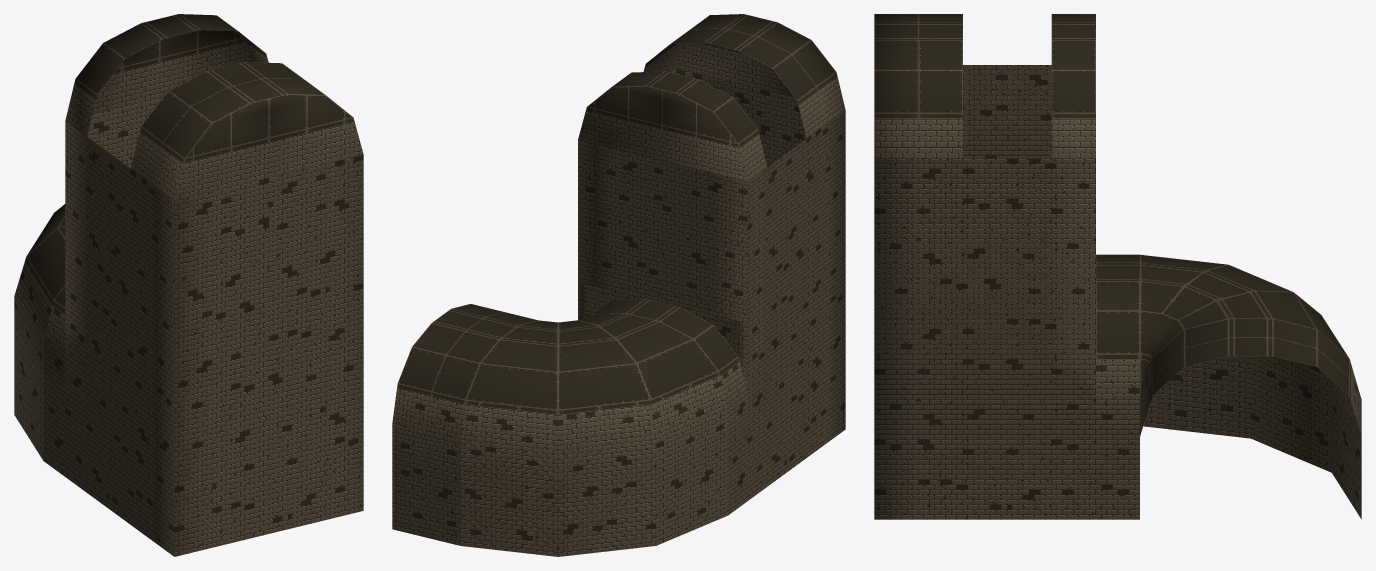
The model's file is walls.fbx.
3 renders of one model, left to right at view 1: azimuth 30°, elevation 25°; view 2: azimuth 150°, elevation 25°; view 3: azimuth 270°, elevation 25°, orthographic. The views are drawn at different scales.
Visible parts, largest first — view 1: BoxArc, Box, Roof02, Roof01, RoundedArc01, Roof03, Arc02Type01; view 2: RoundedArc01, Box, BoxArc, Roof01, Arc02Type03, Arc02Type02, Roof02, Arc02Type01, Roof03, RoundedArc02, Arc01Type01, Arc01Type02 (+1 smaller); view 3: BoxArc, Box, RoundedArc01, Arc01Type01, Roof02, Roof01, Roof03, RoundedArc02, Arc02Type03, Arc01Type03, Arc02Type02, Arc01Type02 (+1 smaller).
Boxes of the visible parts, x1,y1,x2,y2 form: BoxArc: (65, 279, 363, 556); Box: (65, 97, 363, 358); Roof02: (152, 78, 363, 200); Roof01: (65, 14, 268, 136); RoundedArc01: (14, 204, 65, 460); Roof03: (131, 62, 303, 184); Arc02Type01: (43, 285, 65, 476); RoundedArc01: (460, 317, 727, 556); Box: (578, 68, 845, 323); BoxArc: (578, 252, 845, 500); Roof01: (578, 71, 766, 181); Arc02Type03: (392, 316, 474, 537); Arc02Type02: (426, 324, 508, 545); Roof02: (659, 14, 845, 123); Arc02Type01: (643, 303, 747, 515); Roof03: (643, 28, 825, 138); RoundedArc02: (509, 313, 642, 337); Arc01Type01: (592, 299, 661, 316); Arc01Type02: (475, 312, 537, 332); BoxArc: (874, 319, 1095, 519); Box: (874, 65, 1095, 318); RoundedArc01: (1140, 254, 1361, 519); Arc01Type01: (1096, 272, 1139, 519); Roof02: (874, 14, 918, 158); Roof01: (1051, 14, 1095, 158); Roof03: (918, 14, 962, 158); RoundedArc02: (1140, 272, 1250, 398); Arc02Type03: (1250, 337, 1361, 436); Arc01Type03: (1140, 337, 1250, 436); Arc02Type02: (1250, 319, 1361, 417); Arc01Type02: (1140, 319, 1250, 417).
Bounding box in the file's own units: 1400 × 2200 × 2200.
